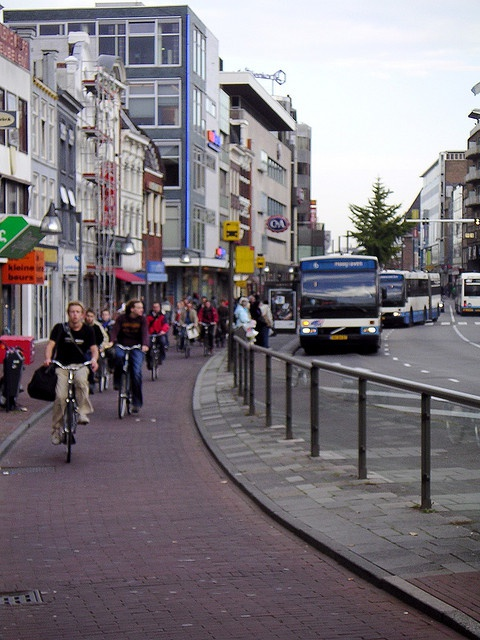non-vehicle: (49, 359, 90, 465), (115, 343, 142, 418), (147, 332, 163, 380), (98, 347, 113, 393), (200, 321, 214, 355), (180, 322, 193, 357), (171, 321, 181, 352)
